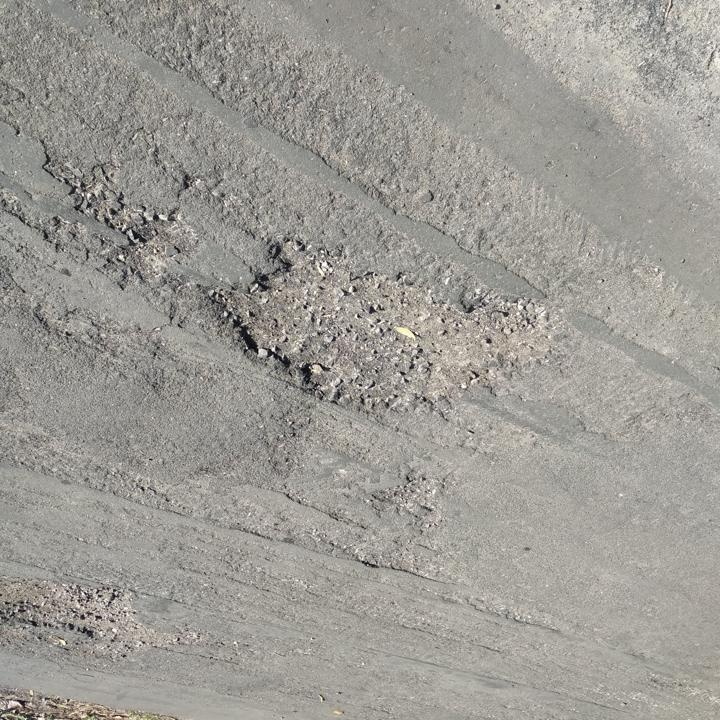pothole: (200, 232, 571, 428), (0, 578, 207, 668), (101, 210, 207, 289), (365, 471, 450, 520)
